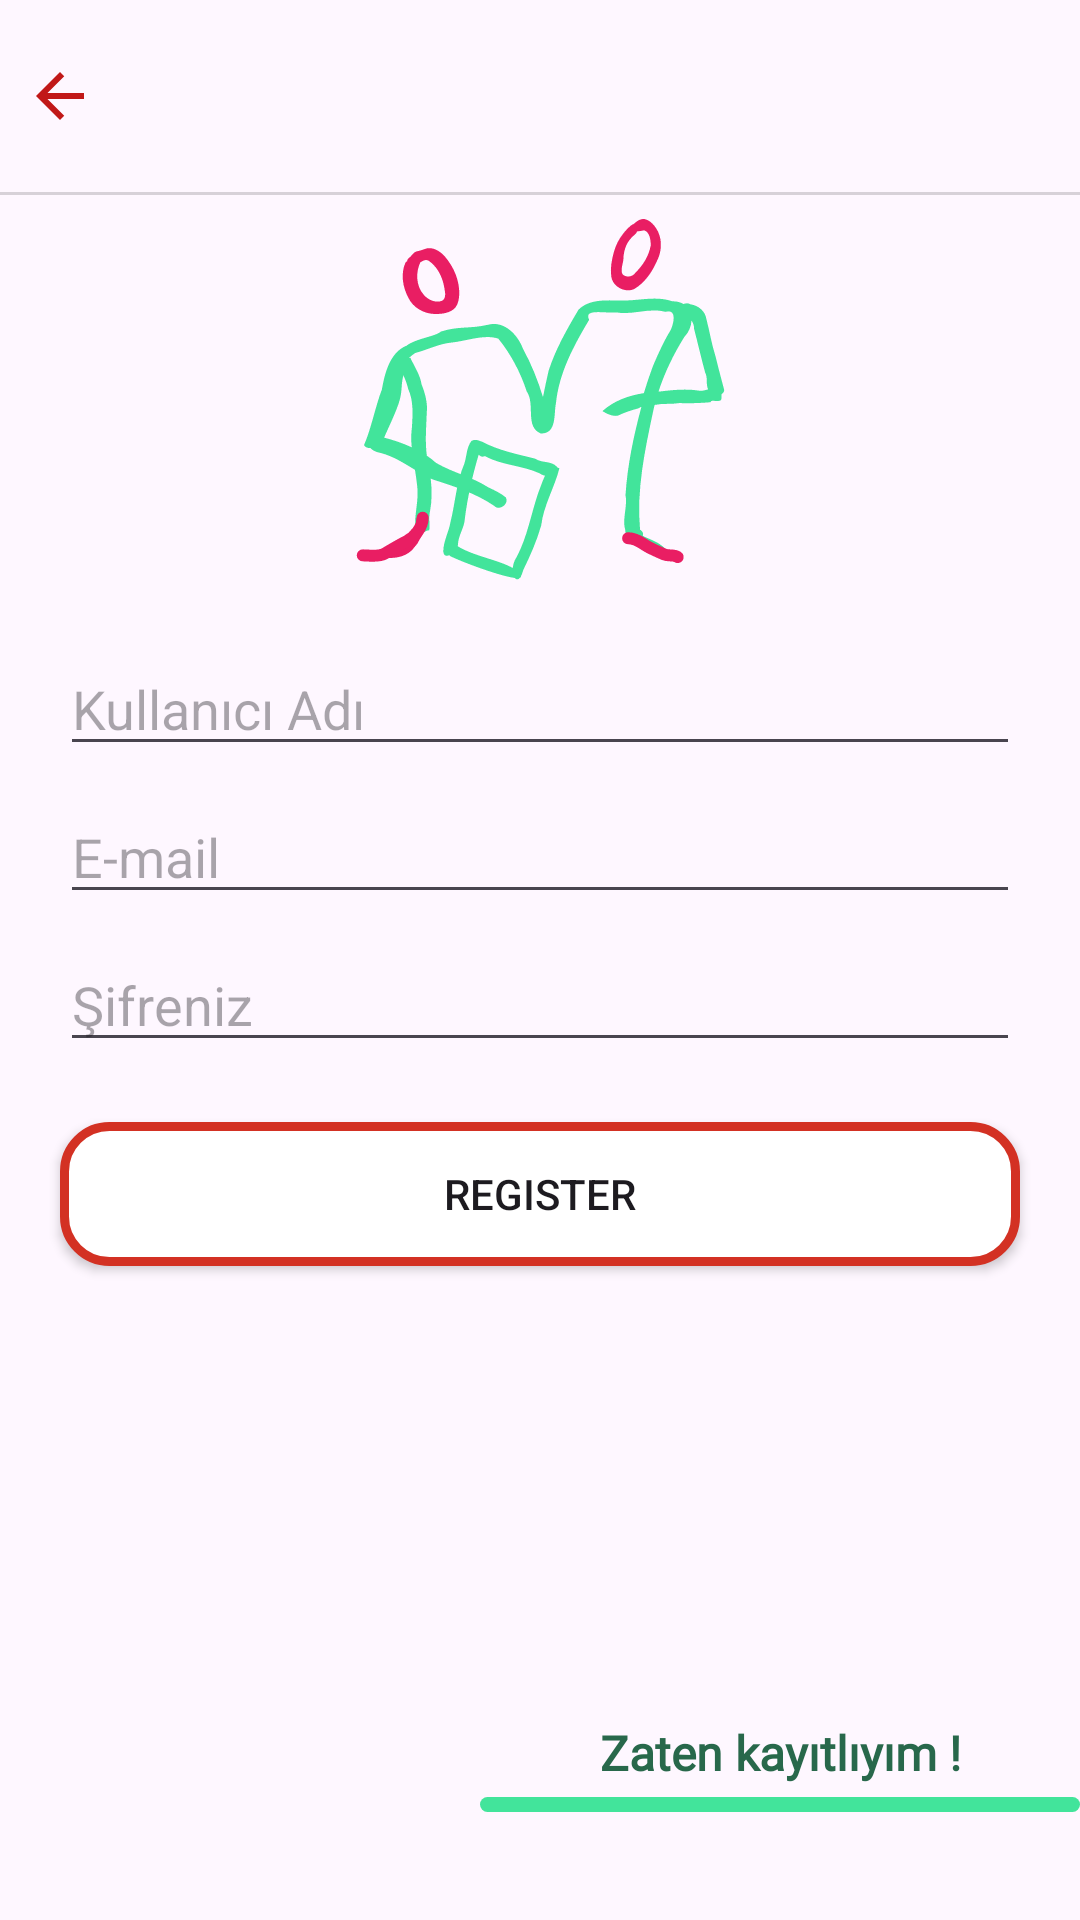

Where to tap for icons on this 1080px x 1920px app screen, as (x,y):
arrow back: (60,96)
